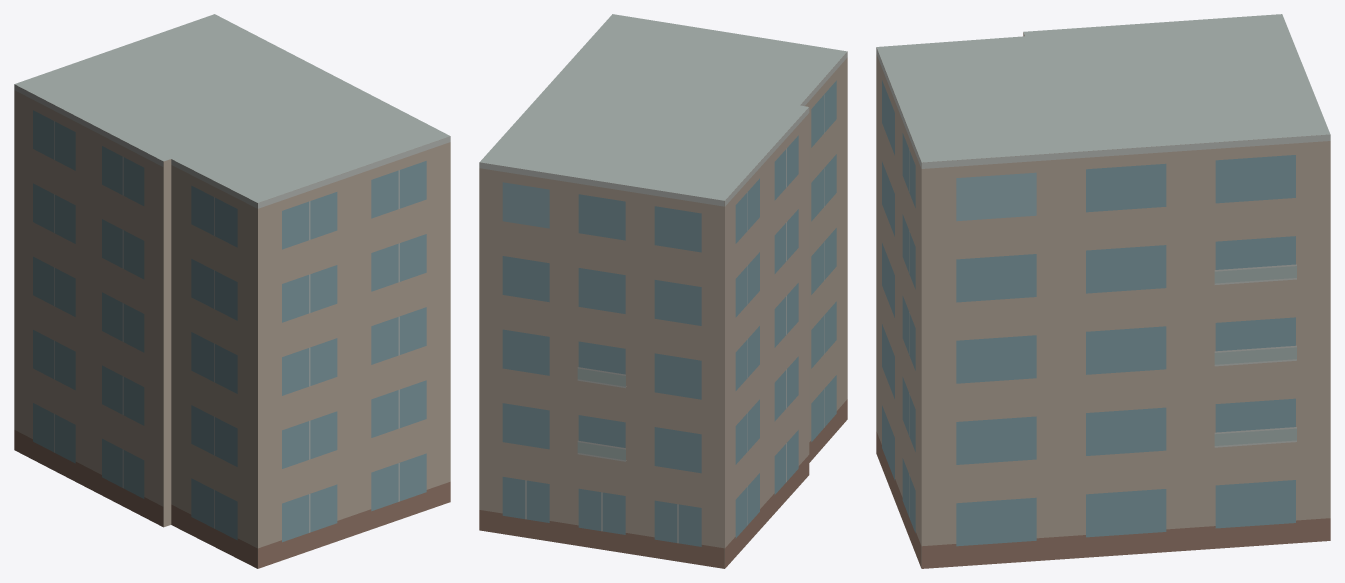
Rendered from survey-upis-32675682.glb.
3 views of the same model, side by side, from view 1: azimuth 30°, elevation 25°; view 2: azimuth 150°, elevation 25°; view 3: azimuth 270°, elevation 25° (orthographic). The views are drawn at different scales.
Parts seen in each view (by area): view 1: survey-upis-32675682.tmp; view 2: survey-upis-32675682.tmp; view 3: survey-upis-32675682.tmp.
Boxes of the visible parts, bbox=[...] form: survey-upis-32675682.tmp: bbox=[14, 14, 450, 568]; survey-upis-32675682.tmp: bbox=[479, 14, 847, 568]; survey-upis-32675682.tmp: bbox=[876, 14, 1330, 568].
Bounding box in the file's own units: 11.96 × 15.25 × 15.46.
